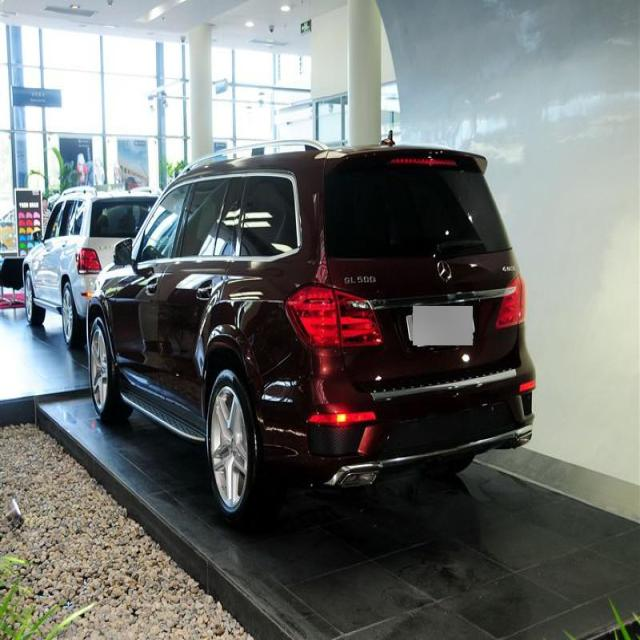back_glass: (320, 156, 513, 257)
back_left_side_light: (281, 280, 382, 349)
back_right_side_light: (493, 271, 526, 331)
front_left_side_door: (114, 175, 194, 409)
front_left_side_mirror: (112, 236, 137, 270)
rear_bumper: (260, 358, 537, 483)
wheel: (206, 367, 260, 519), (88, 316, 128, 421)
